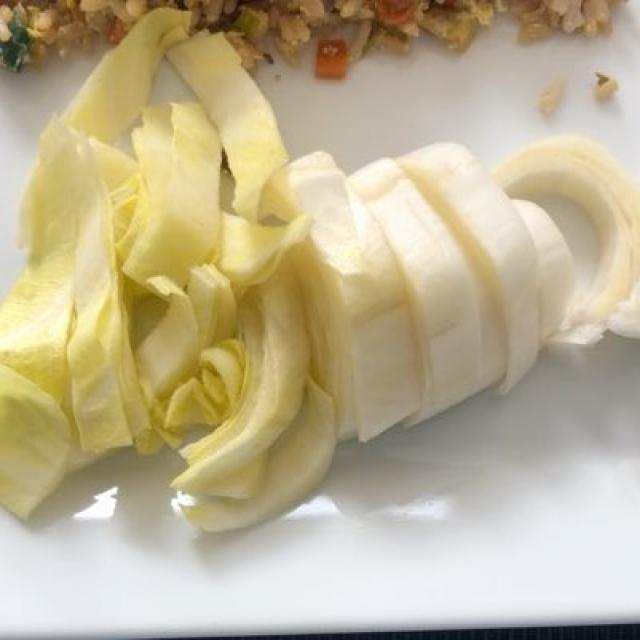witloof-chicory: (55, 20, 614, 540)
